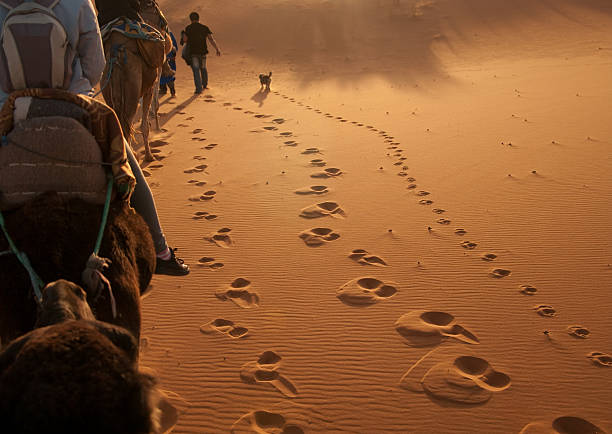animal_foot_print: (399, 347, 510, 404), (422, 356, 510, 404), (395, 311, 478, 346), (240, 351, 297, 397), (230, 402, 311, 433), (336, 277, 397, 306), (519, 416, 605, 433), (215, 278, 259, 308), (200, 318, 247, 338), (300, 201, 345, 218), (299, 228, 339, 246), (349, 249, 387, 266), (204, 228, 232, 247), (587, 352, 611, 366), (311, 168, 342, 178), (198, 257, 223, 269), (566, 325, 589, 338), (188, 190, 215, 201), (295, 185, 328, 194), (534, 305, 556, 316), (192, 211, 217, 220), (489, 268, 510, 278), (184, 164, 207, 173), (519, 284, 537, 295), (200, 190, 216, 200), (460, 241, 477, 249), (301, 147, 320, 154), (149, 140, 168, 147), (481, 253, 497, 261), (188, 179, 206, 186), (310, 159, 325, 166), (202, 143, 217, 149), (418, 199, 433, 205), (436, 218, 451, 224), (416, 190, 430, 196), (454, 228, 466, 235), (284, 140, 297, 146), (432, 208, 445, 214), (192, 155, 206, 160), (406, 183, 416, 189), (272, 118, 284, 123), (263, 126, 277, 130), (191, 128, 202, 133), (397, 171, 408, 176), (279, 132, 292, 136), (223, 102, 232, 106)
